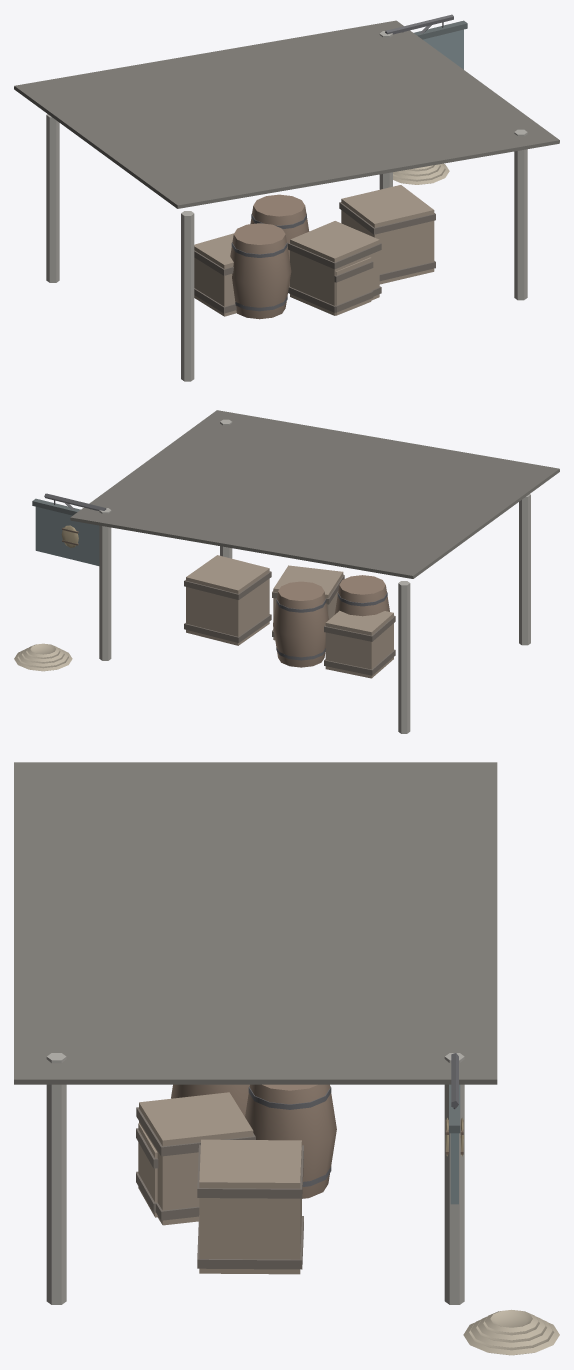
The model's file is storage_1.gltf.
3 renders of one model, top to bottom at view 1: azimuth 30°, elevation 25°; view 2: azimuth 150°, elevation 25°; view 3: azimuth 270°, elevation 25°, orthographic. The views are drawn at different scales.
Parts seen in each view (by area): view 1: Body; view 2: Body; view 3: Body.
Part boxes in pixels (box(x1,y1,x2,y2)): Body: box(14, 14, 559, 381); Body: box(14, 410, 559, 733); Body: box(14, 762, 559, 1355).
Size of the model in its own units: 5.25 by 2.18 by 3.84.
